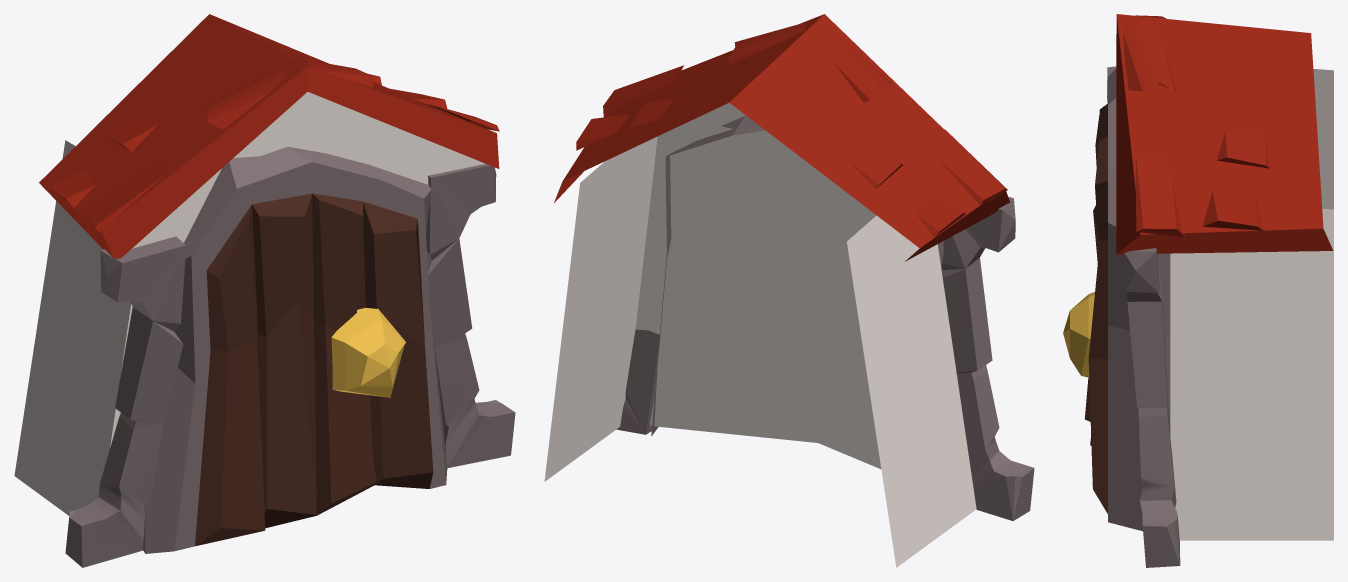
Rendered from SM_L_R_Home_Tile_Door.fbx.
3 renders of one model, left to right at view 1: azimuth 30°, elevation 25°; view 2: azimuth 150°, elevation 25°; view 3: azimuth 270°, elevation 25°, orthographic. The views are drawn at different scales.
Visible parts, largest first — view 1: SM_L_R_Home_Tile_door; view 2: SM_L_R_Home_Tile_door; view 3: SM_L_R_Home_Tile_door.
Boxes of the visible parts, x1,y1,x2,y2 form: SM_L_R_Home_Tile_door: (14,14,515,567); SM_L_R_Home_Tile_door: (544,14,1034,567); SM_L_R_Home_Tile_door: (1063,14,1333,567).
Size of the model in its own units: 216 by 211 by 116.
